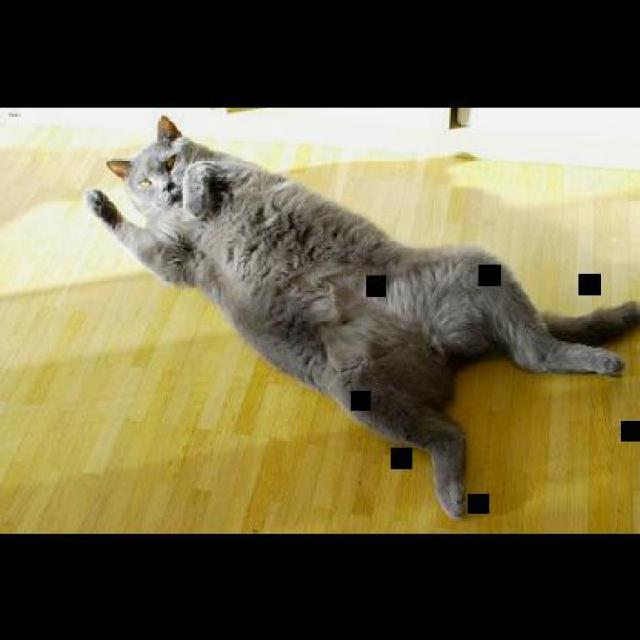unauthorized: (83, 114, 639, 518)
